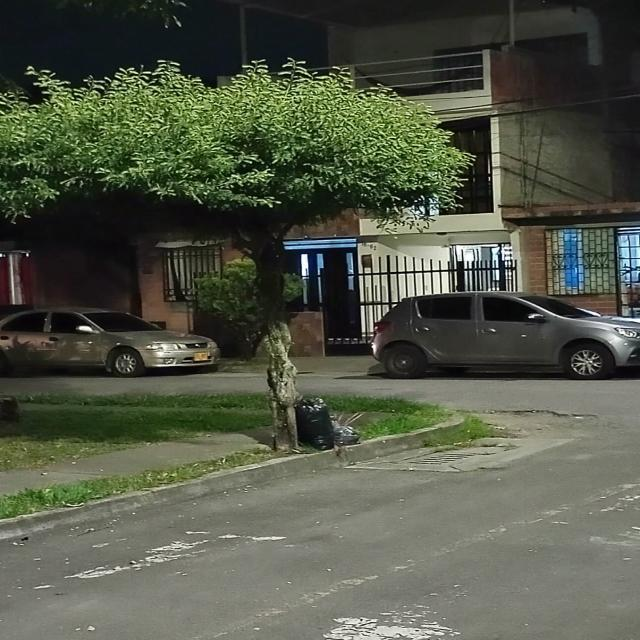Trashbag: (293, 394, 359, 453)
